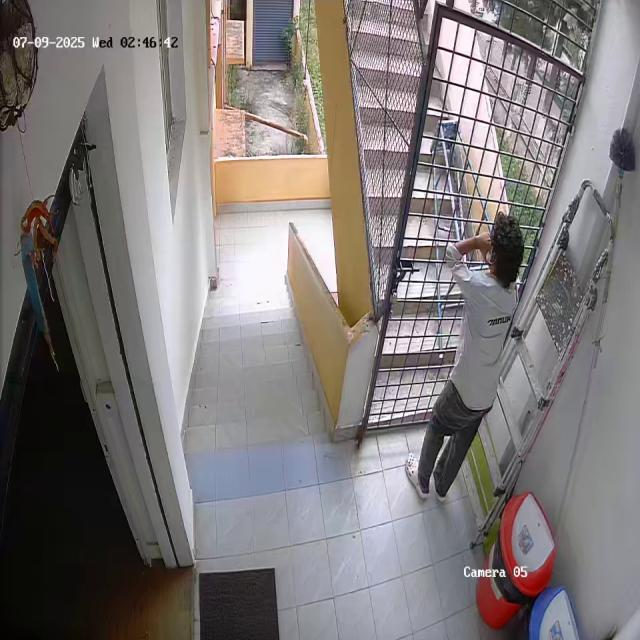person: (410, 207, 520, 505)
